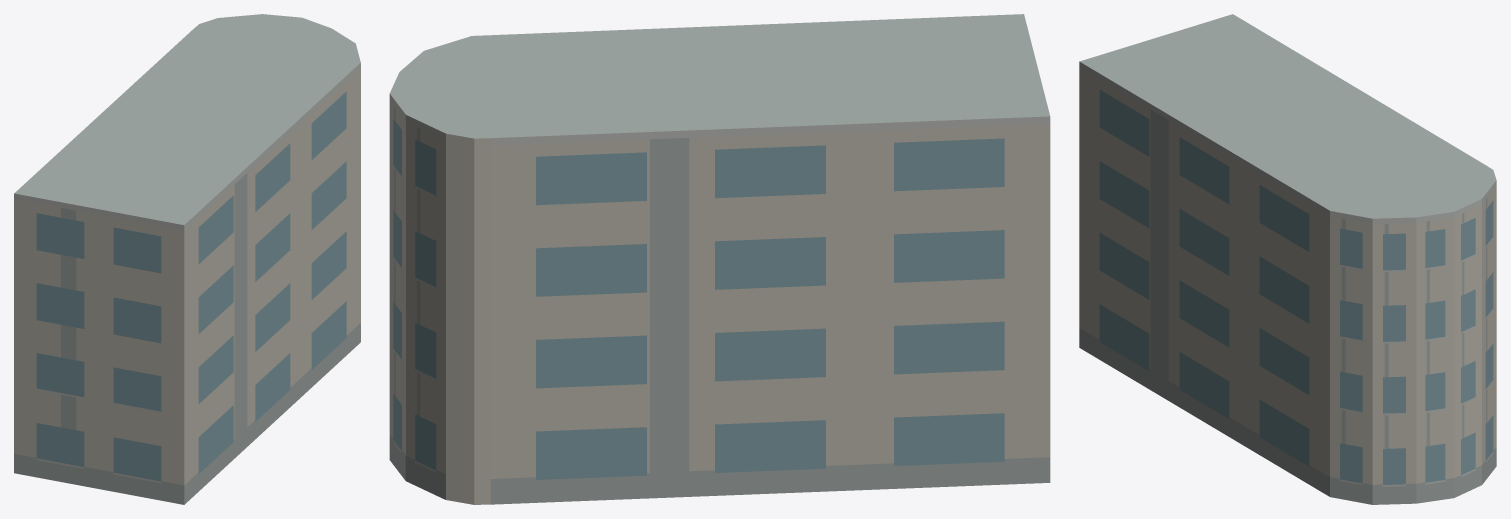
Rendered from survey-upis-32522160.glb.
3 renders of one model, left to right at view 1: azimuth 30°, elevation 25°; view 2: azimuth 150°, elevation 25°; view 3: azimuth 270°, elevation 25°, orthographic. The views are drawn at different scales.
Visible parts, largest first — view 1: survey-upis-32522160.tmp; view 2: survey-upis-32522160.tmp; view 3: survey-upis-32522160.tmp.
Boxes of the visible parts, x1=… form: survey-upis-32522160.tmp: x1=14, y1=14, x2=360, y2=504; survey-upis-32522160.tmp: x1=389, y1=14, x2=1050, y2=504; survey-upis-32522160.tmp: x1=1079, y1=14, x2=1496, y2=504.
Size of the model in its own units: 18.72 by 12.2 by 16.13.
